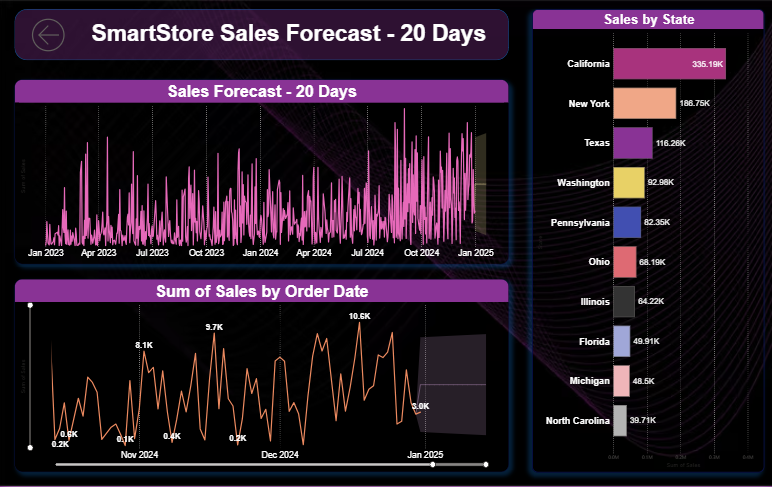

The dashboard page shown, as its layout file describes it:
{"tool":"powerbi","page":{"name":"Sales Forecast","canvas":[1920,1200],"ordinal":1},"visuals":[{"type":"lineChart","title":"Sales Forecast - 20 Days","fields":{"Y":["Sum(SuperStore_Sales_Dataset.Sales)"],"Category":["SuperStore_Sales_Dataset.Order Date"]},"box":[41.2,197.1,1220.6,455.9],"z":0},{"type":"lineChart","fields":{"Y":["Sum(SuperStore_Sales_Dataset.Sales)"],"Category":["SuperStore_Sales_Dataset.Order Date"]},"box":[41.2,688.2,1220.6,476.5],"z":1000},{"type":"barChart","title":"Sales by State","fields":{"Y":["Sum(SuperStore_Sales_Dataset.Sales)"],"Category":["SuperStore_Sales_Dataset.State"]},"box":[1318.5,22.2,574.1,1144.4],"z":2000},{"type":"shape","box":[41.2,23.5,1220.6,126.5],"z":3000},{"type":"textbox","box":[226.5,44.1,1014.7,85.3],"z":4000},{"type":"actionButton","box":[73.5,11.8,100,150],"z":5000}]}

Visuals, with their boxes in screenshot pixels (x1, y1, x2, y2), scaled from the page's 1920x1200 canvas onto the 772x487 screenshot:
"Sales Forecast - 20 Days" lineChart: [x1=17, y1=80, x2=507, y2=265]
lineChart - Sum(SuperStore_Sales_Dataset.Sales) x SuperStore_Sales_Dataset.Order Date: [x1=17, y1=279, x2=507, y2=473]
"Sales by State" barChart: [x1=530, y1=9, x2=761, y2=473]
shape: [x1=17, y1=10, x2=507, y2=61]
textbox: [x1=91, y1=18, x2=499, y2=53]
actionButton: [x1=30, y1=5, x2=70, y2=66]
